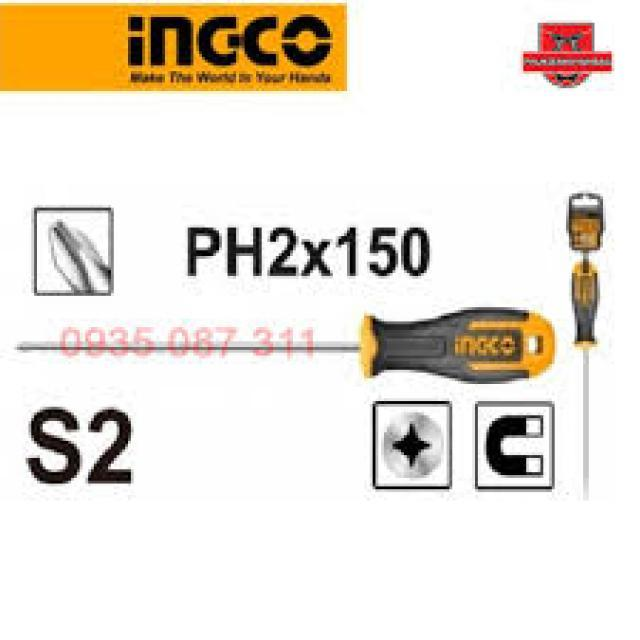screwdriver: (9, 304, 554, 387), (566, 258, 603, 504)
